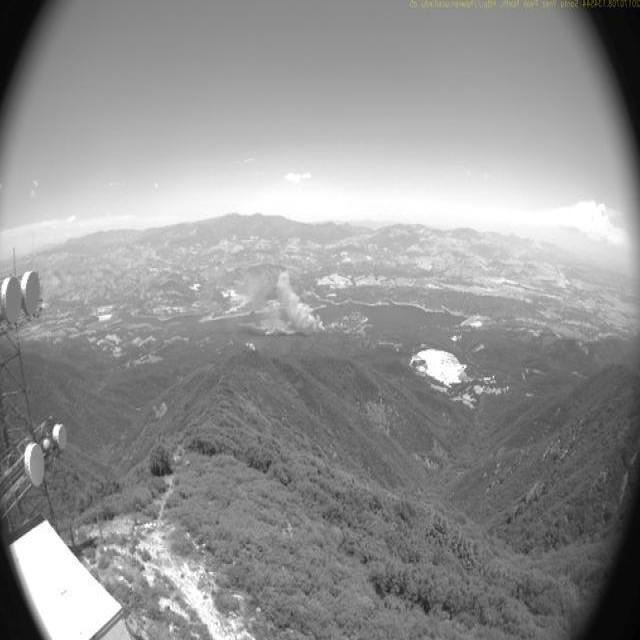Smoke: (255, 265, 338, 340)
